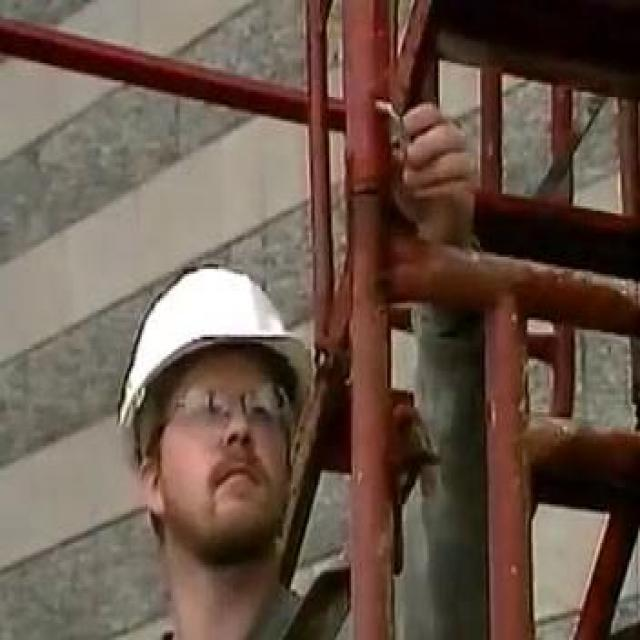Safety-Helmet: (104, 257, 329, 434)
